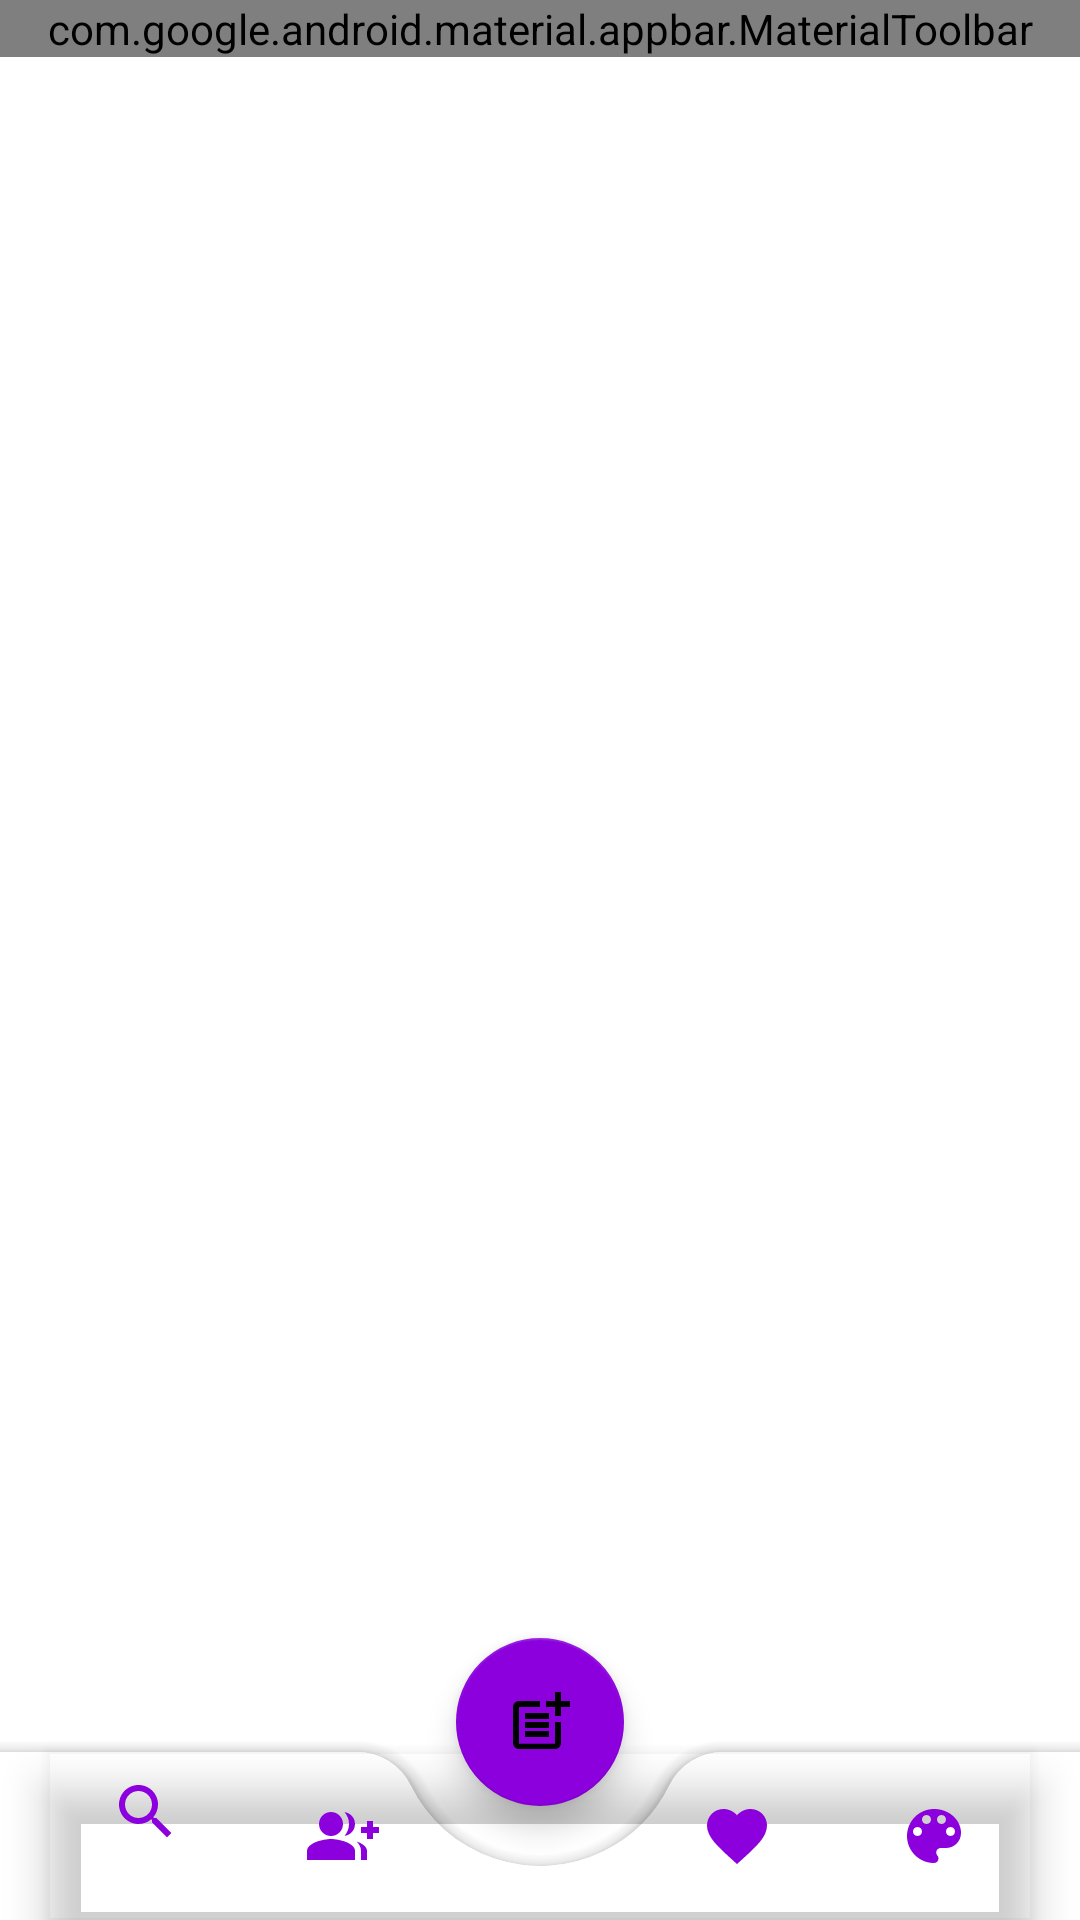

Screen size 1080px×1920px. Icon name, then its center in pixels as (x=x, y=y):
post add: (x=540, y=1746)
